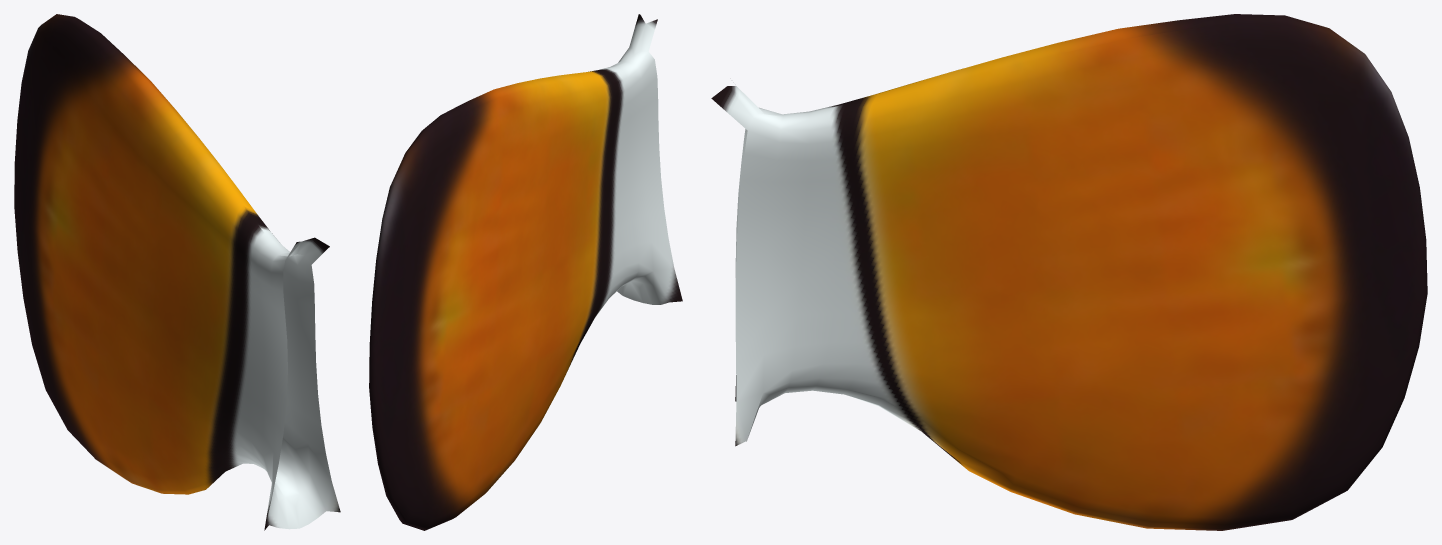
File: psFCola.obj
The picture shows the model from 3 angles, left to right: view 1: azimuth 30°, elevation 25°; view 2: azimuth 150°, elevation 25°; view 3: azimuth 270°, elevation 25°; orthographic projection. The views are drawn at different scales.
Parts seen in each view (by area): view 1: colaPes; view 2: colaPes; view 3: colaPes.
Part boxes in pixels (box(x1,y1,x2,y2)): colaPes: box(14, 14, 340, 530); colaPes: box(369, 14, 682, 530); colaPes: box(711, 14, 1427, 530).
Bounding box in the file's own units: 0.8849 × 4.73 × 5.95.
1 material, 1 textured.
